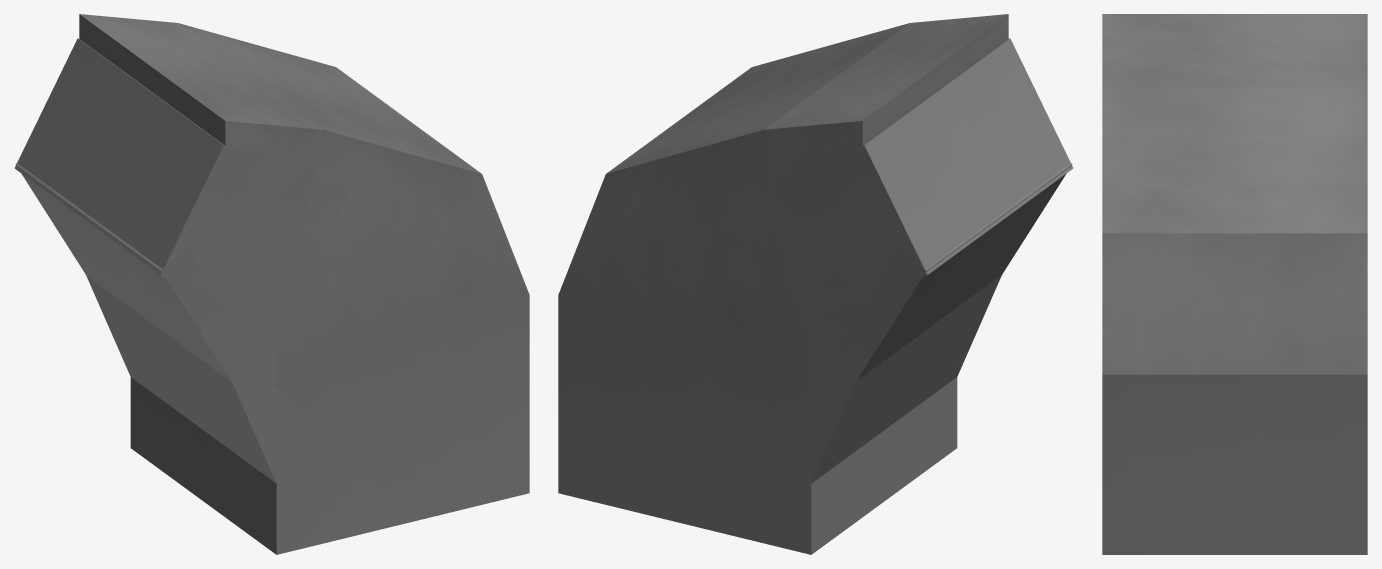
The model's file is dc_metro_roof_d1s.obj.
3 views of the same model, side by side, from view 1: azimuth 30°, elevation 25°; view 2: azimuth 150°, elevation 25°; view 3: azimuth 270°, elevation 25° (orthographic). The views are drawn at different scales.
Visible parts, largest first — view 1: part1p, mesh; view 2: part1p, mesh; view 3: mesh, part1p.
Boxes of the visible parts, x1=… form: part1p: x1=14, y1=38, x2=529, y2=554; mesh: x1=79, y1=14, x2=529, y2=356; part1p: x1=558, y1=38, x2=1073, y2=554; mesh: x1=558, y1=14, x2=1008, y2=356; mesh: x1=1102, y1=14, x2=1367, y2=374; part1p: x1=1102, y1=374, x2=1367, y2=554.
Size of the model in its own units: 1.46 by 1.69 by 1.
1 material, 1 textured.
